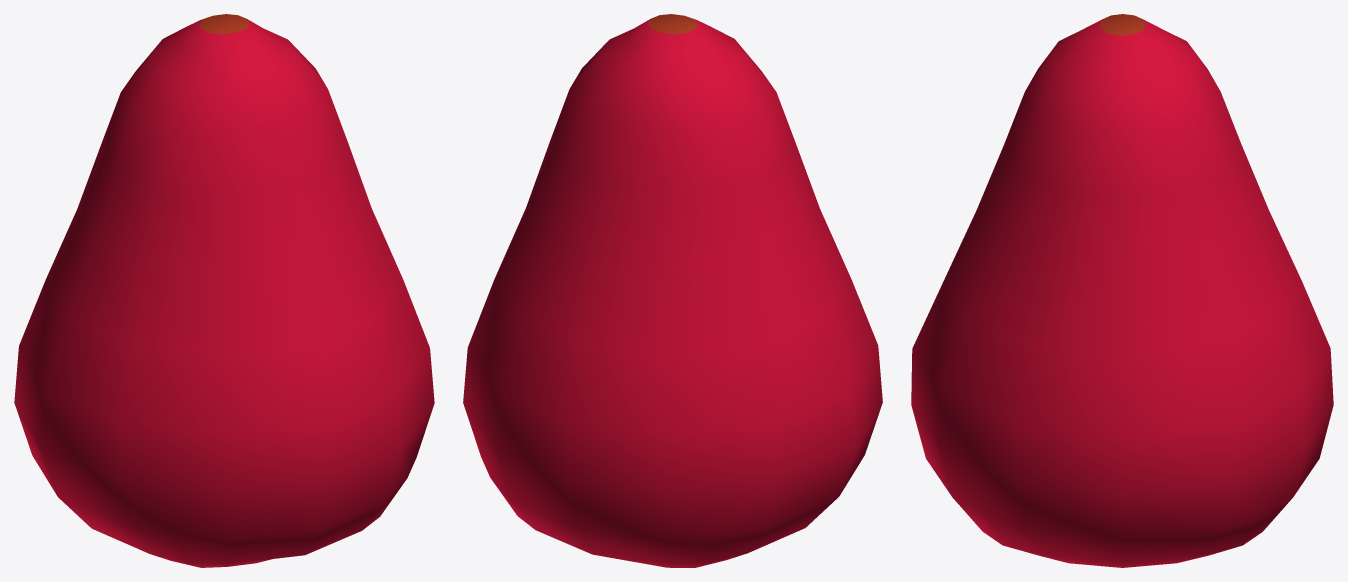
The model's file is jambo jogo.fbx.
3 views of the same model, side by side, from view 1: azimuth 30°, elevation 25°; view 2: azimuth 150°, elevation 25°; view 3: azimuth 270°, elevation 25° (orthographic).
Parts seen in each view (by area): view 1: Sphere; view 2: Sphere; view 3: Sphere.
Boxes of the visible parts, x1,y1,x2,y2 form: Sphere: (14, 14, 434, 567); Sphere: (463, 14, 882, 567); Sphere: (911, 14, 1333, 567).
Size of the model in its own units: 1.84 by 2.5 by 1.82.
